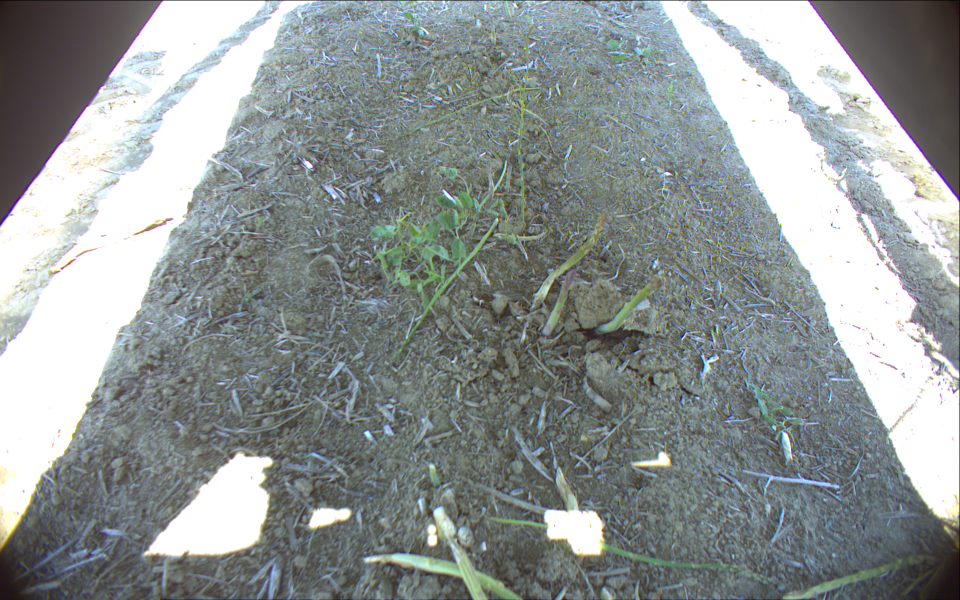aspa: (526, 212, 608, 312), (592, 275, 665, 339), (539, 269, 579, 339)
